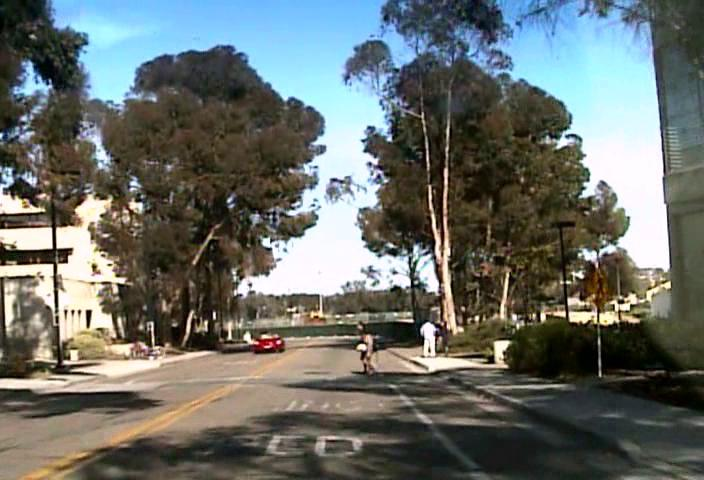pedestrianCrossing: (582, 266, 612, 309)
